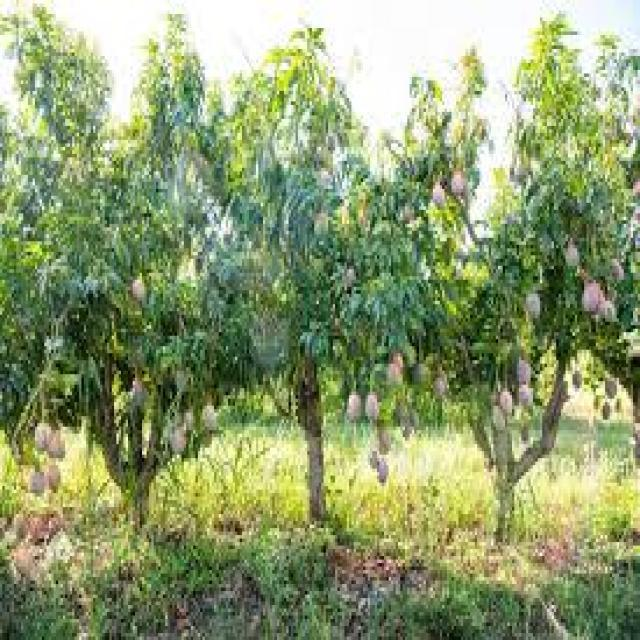Tree: (212, 42, 457, 538), (444, 53, 636, 547), (21, 68, 200, 558)
